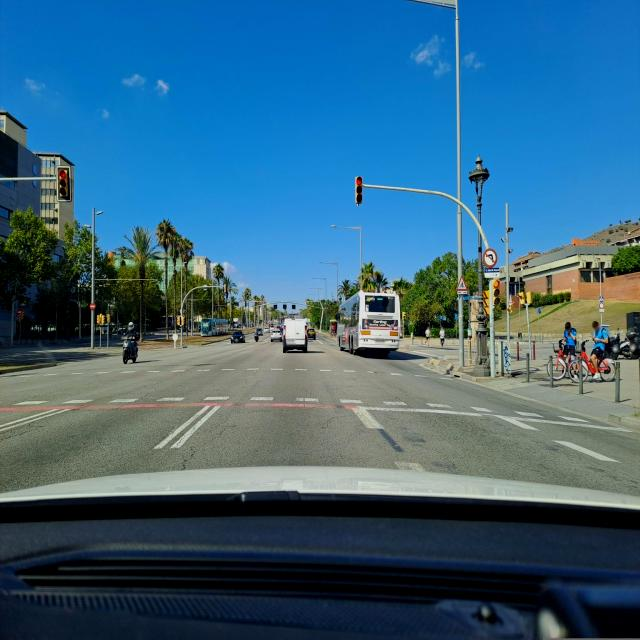bike: (122, 331, 140, 364), (254, 325, 264, 343)
car: (282, 316, 308, 354), (230, 324, 245, 344), (271, 325, 283, 343), (307, 325, 316, 340), (330, 320, 337, 336)
